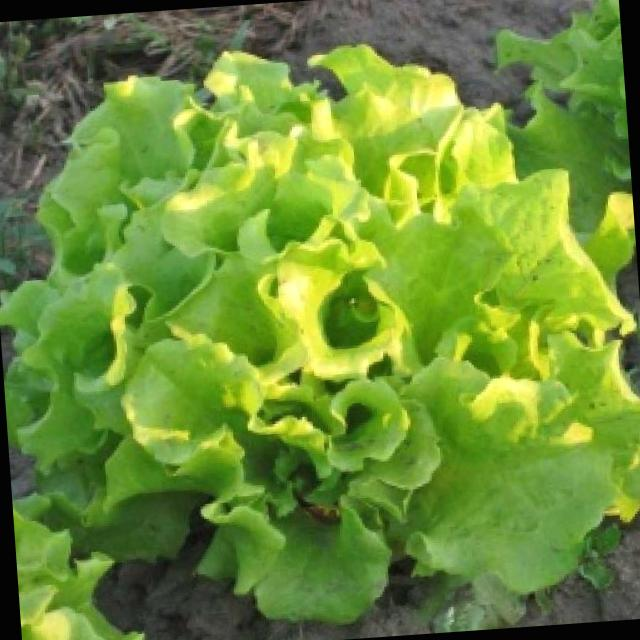Lettuce-Ready-to-Harvest: (0, 46, 640, 622), (496, 0, 632, 233), (13, 509, 143, 640)
